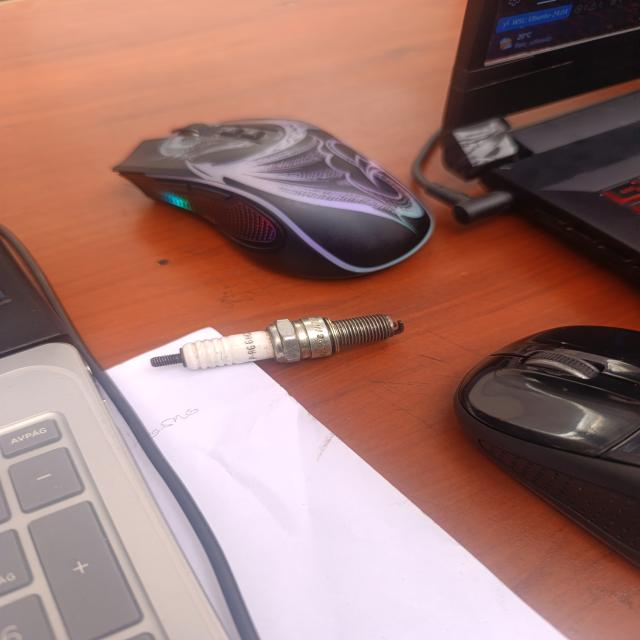bujia: (151, 314, 403, 369)
